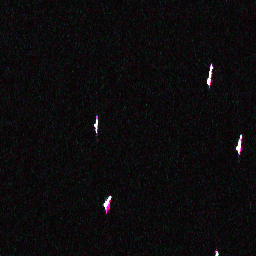ship: (204, 63, 215, 86), (101, 193, 114, 210), (234, 133, 244, 153), (91, 117, 100, 128)
